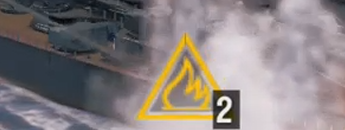2fire: (132, 68, 242, 130)
